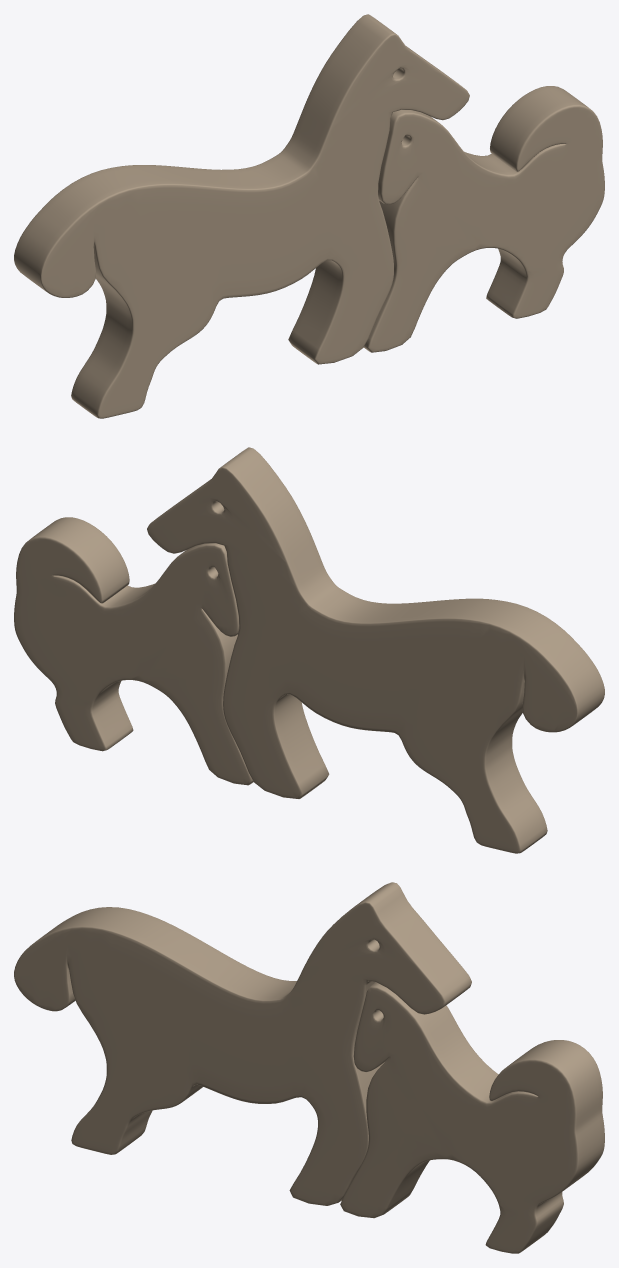
Rendered from MOD_ART_ThreeRooms.fbx_Wooden_toys_horse_.fbx.
The picture shows the model from 3 angles, top to bottom: view 1: azimuth 30°, elevation 25°; view 2: azimuth 150°, elevation 25°; view 3: azimuth 330°, elevation 25°; orthographic projection.
Parts seen in each view (by area): view 1: base.005, base.004; view 2: base.005, base.004; view 3: base.005, base.004.
Boxes of the visible parts, x1=… form: base.005: x1=14, y1=14, x2=469, y2=418; base.004: x1=363, y1=86, x2=604, y2=352; base.005: x1=147, y1=447, x2=604, y2=853; base.004: x1=14, y1=517, x2=253, y2=785; base.005: x1=14, y1=882, x2=471, y2=1205; base.004: x1=340, y1=982, x2=604, y2=1253.
Size of the model in its own units: 24.83 by 13.26 by 2.22.
